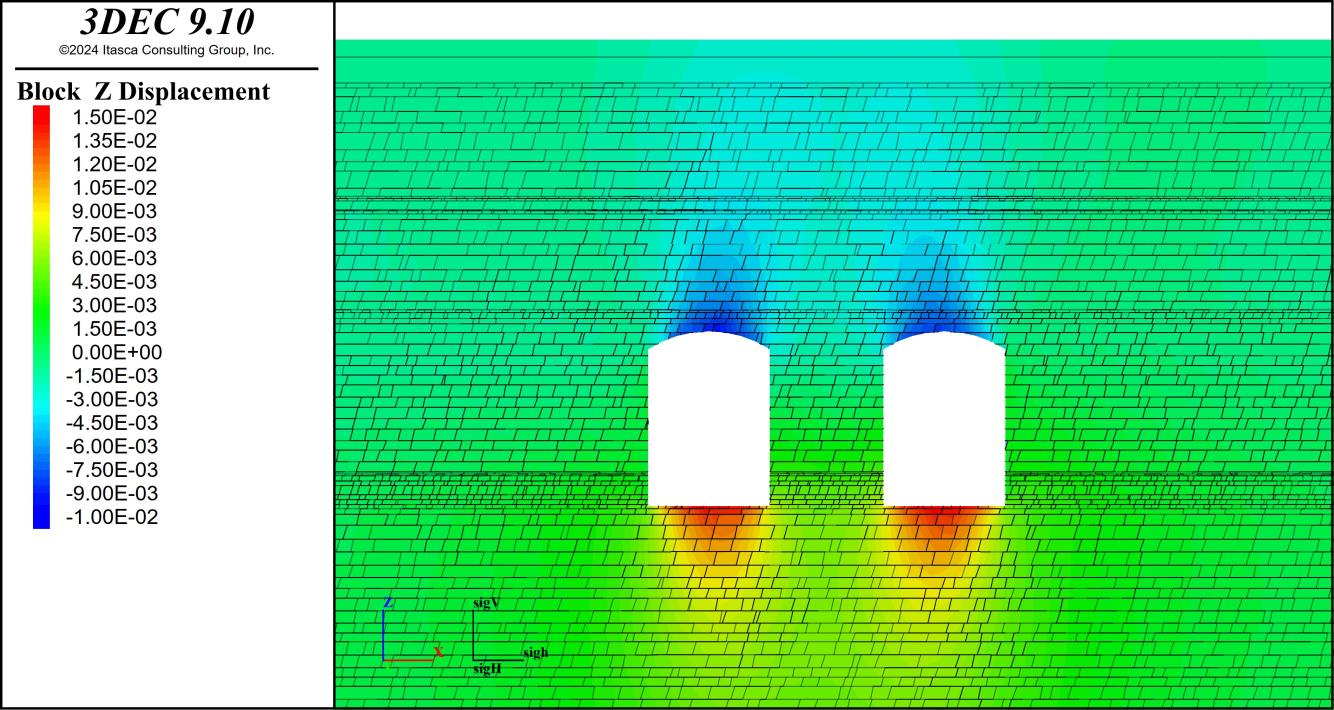crown: (920, 307, 968, 329), (696, 307, 731, 327)
label: (5, 2, 333, 708)
tunnel-opening: (644, 331, 772, 504), (884, 332, 1003, 508)
